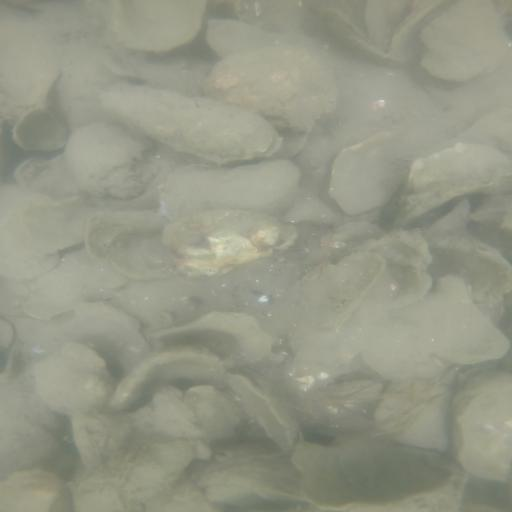Oyster-Closed: (100, 86, 273, 159), (293, 437, 463, 511), (206, 46, 334, 129), (164, 214, 303, 283), (396, 278, 507, 363), (396, 143, 512, 220), (161, 161, 300, 220), (418, 1, 512, 83), (69, 124, 169, 197), (1, 365, 63, 480), (374, 370, 458, 453), (85, 212, 171, 282), (108, 1, 217, 56), (35, 343, 118, 415), (332, 133, 402, 214), (461, 373, 512, 484), (205, 17, 317, 58), (12, 105, 69, 155), (1, 472, 71, 512)
Oyster-Open: (227, 374, 299, 448)
